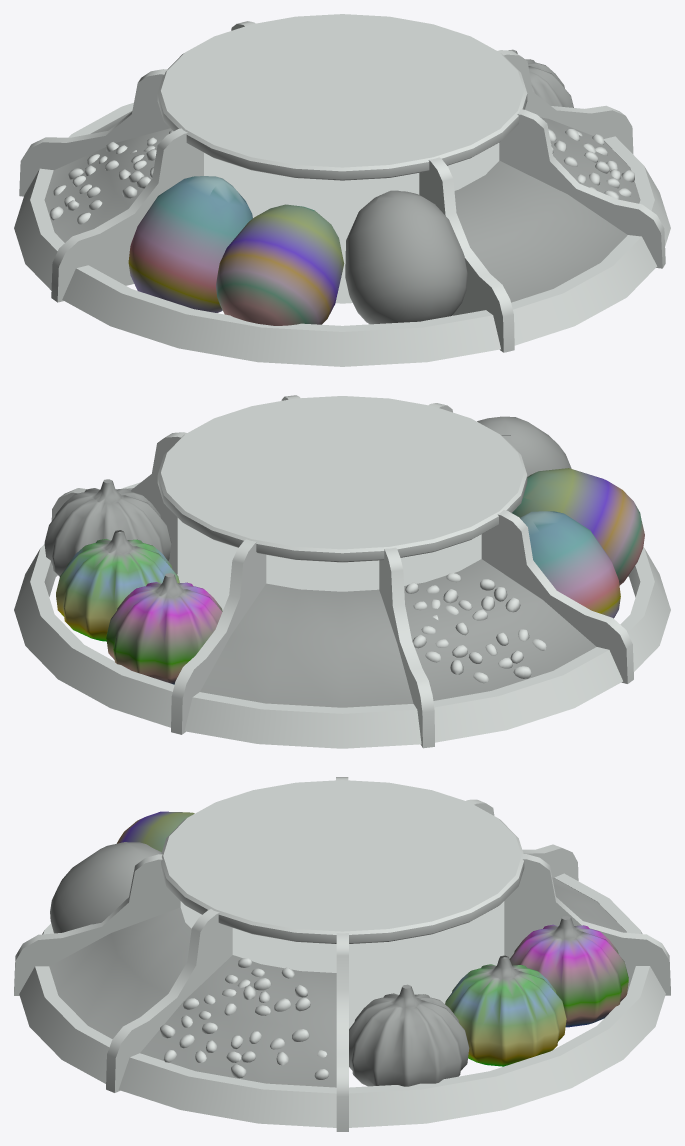
The picture shows the model from 3 angles, top to bottom: view 1: azimuth 30°, elevation 25°; view 2: azimuth 150°, elevation 25°; view 3: azimuth 270°, elevation 25°; orthographic projection.
Visible parts, largest first — view 1: G:\FFXIV-MapTools\exports\y6f3\bg\ex5\02_ykt_y6\fld\y6f3\bgp (×9); view 2: G:\FFXIV-MapTools\exports\y6f3\bg\ex5\02_ykt_y6\fld\y6f3\bgp (×11); view 3: G:\FFXIV-MapTools\exports\y6f3\bg\ex5\02_ykt_y6\fld\y6f3\bgp (×10).
Part boxes in pixels (x1,y1,x2,y2): G:\FFXIV-MapTools\exports\y6f3\bg\ex5\02_ykt_y6\fld\y6f3\bgp (×9): [14, 14, 670, 366]; G:\FFXIV-MapTools\exports\y6f3\bg\ex5\02_ykt_y6\fld\y6f3\bgp (×11): [14, 395, 670, 748]; G:\FFXIV-MapTools\exports\y6f3\bg\ex5\02_ykt_y6\fld\y6f3\bgp (×10): [14, 777, 670, 1131].
Bounding box in the file's own units: 3.12 × 0.7979 × 3.12.
